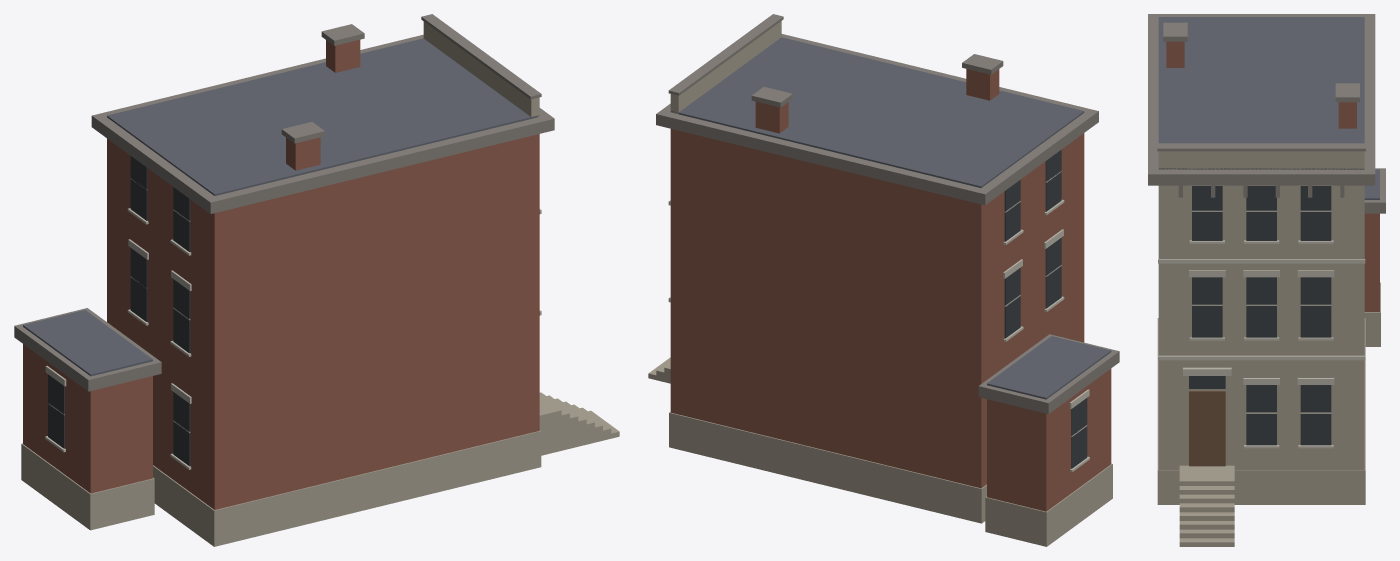
The model's file is tolman_house_2031_prairie__draft_1904.glb.
The picture shows the model from 3 angles, left to right: view 1: azimuth 30°, elevation 25°; view 2: azimuth 150°, elevation 25°; view 3: azimuth 270°, elevation 25°; orthographic projection. The views are drawn at different scales.
Parts seen in each view (by area): view 1: tolman_house_2031_prairie__draft_1904; view 2: tolman_house_2031_prairie__draft_1904; view 3: tolman_house_2031_prairie__draft_1904.
Boxes of the visible parts, box(x1,y1,x2,y2) form: tolman_house_2031_prairie__draft_1904: box(14, 14, 619, 546); tolman_house_2031_prairie__draft_1904: box(648, 14, 1119, 546); tolman_house_2031_prairie__draft_1904: box(1148, 14, 1385, 546).
Bounding box in the file's own units: 18 × 13.34 × 7.8.
